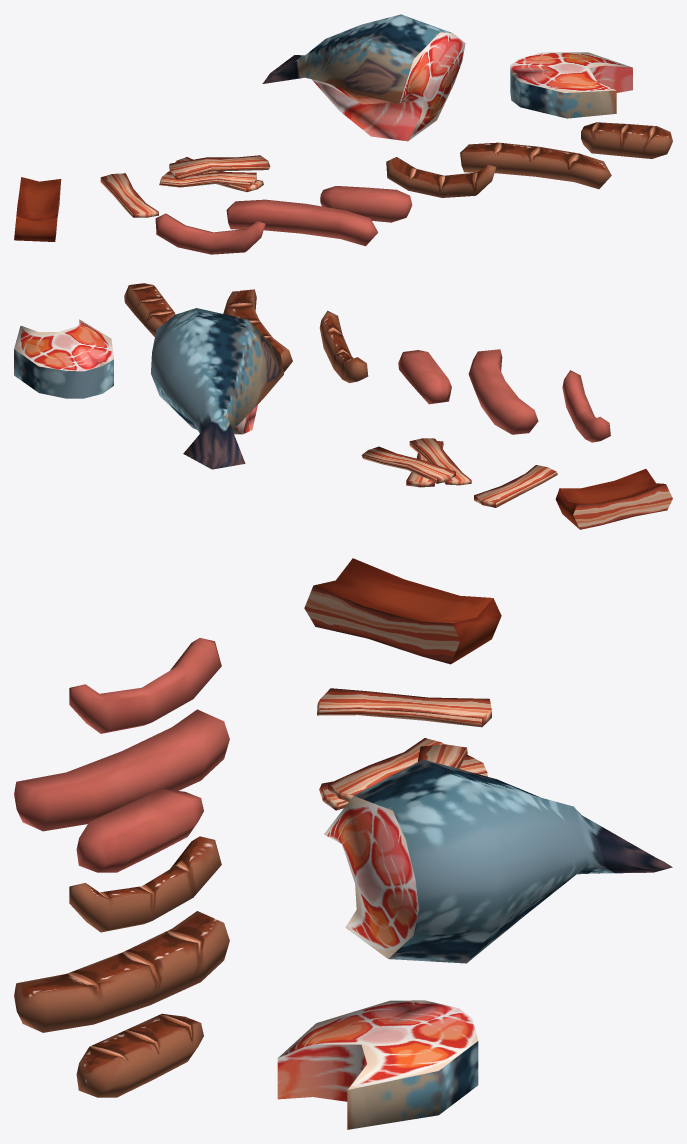
The model's file is cartoon-fish-and-meat-products.fbx.
3 views of the same model, one above another, from view 1: azimuth 30°, elevation 25°; view 2: azimuth 150°, elevation 25°; view 3: azimuth 270°, elevation 25° (orthographic). The views are drawn at different scales.
Parts seen in each view (by area): view 1: P_PROP_food_fish_02, P_PROP_food_fish_01, P_PROP_food_sausage_02, P_PROP_food_sausage_05, P_PROP_food_meat_10, P_PROP_food_sausage_01, P_PROP_food_meat_11, P_PROP_food_sausage_03, P_PROP_food_sausage_06, P_PROP_food_sausage_04, P_PROP_food_meat_09; view 2: P_PROP_food_fish_02, P_PROP_food_fish_01, P_PROP_food_meat_11, P_PROP_food_sausage_05, P_PROP_food_meat_10, P_PROP_food_sausage_04, P_PROP_food_sausage_03, P_PROP_food_sausage_06, P_PROP_food_sausage_01, P_PROP_food_meat_09, P_PROP_food_sausage_02; view 3: P_PROP_food_fish_02, P_PROP_food_fish_01, P_PROP_food_sausage_02, P_PROP_food_sausage_05, P_PROP_food_meat_11, P_PROP_food_sausage_01, P_PROP_food_sausage_04, P_PROP_food_sausage_06, P_PROP_food_sausage_03, P_PROP_food_meat_09, P_PROP_food_meat_10.
Boxes of the visible parts, x1,y1,x2,y2 form: P_PROP_food_fish_02: (262,14,465,141); P_PROP_food_fish_01: (510,52,632,118); P_PROP_food_sausage_02: (460,142,611,189); P_PROP_food_sausage_05: (226,199,377,246); P_PROP_food_meat_10: (159,155,270,191); P_PROP_food_sausage_01: (581,122,672,158); P_PROP_food_meat_11: (14,177,61,241); P_PROP_food_sausage_03: (386,157,496,197); P_PROP_food_sausage_06: (155,213,265,254); P_PROP_food_sausage_04: (320,186,412,222); P_PROP_food_meat_09: (100,173,158,217); P_PROP_food_fish_02: (151,308,283,469); P_PROP_food_fish_01: (14,319,113,398); P_PROP_food_meat_11: (555,469,672,529); P_PROP_food_sausage_05: (468,349,538,434); P_PROP_food_meat_10: (361,438,471,487); P_PROP_food_sausage_04: (398,350,451,404); P_PROP_food_sausage_03: (319,310,368,382); P_PROP_food_sausage_06: (562,370,610,442); P_PROP_food_sausage_01: (124,283,175,336); P_PROP_food_meat_09: (474,465,557,507); P_PROP_food_sausage_02: (223,289,292,372); P_PROP_food_fish_02: (324,759,672,963); P_PROP_food_fish_01: (277,1000,478,1129); P_PROP_food_sausage_02: (14,911,229,1032); P_PROP_food_sausage_05: (14,709,229,831); P_PROP_food_meat_11: (304,558,501,664); P_PROP_food_sausage_01: (76,1013,203,1097); P_PROP_food_sausage_04: (76,789,203,872); P_PROP_food_sausage_06: (69,638,221,733); P_PROP_food_sausage_03: (69,836,221,932); P_PROP_food_meat_09: (317,688,491,727); P_PROP_food_meat_10: (319,738,487,810).
Size of the model in its own units: 228 by 36.73 by 119.
1 material, 1 textured.
